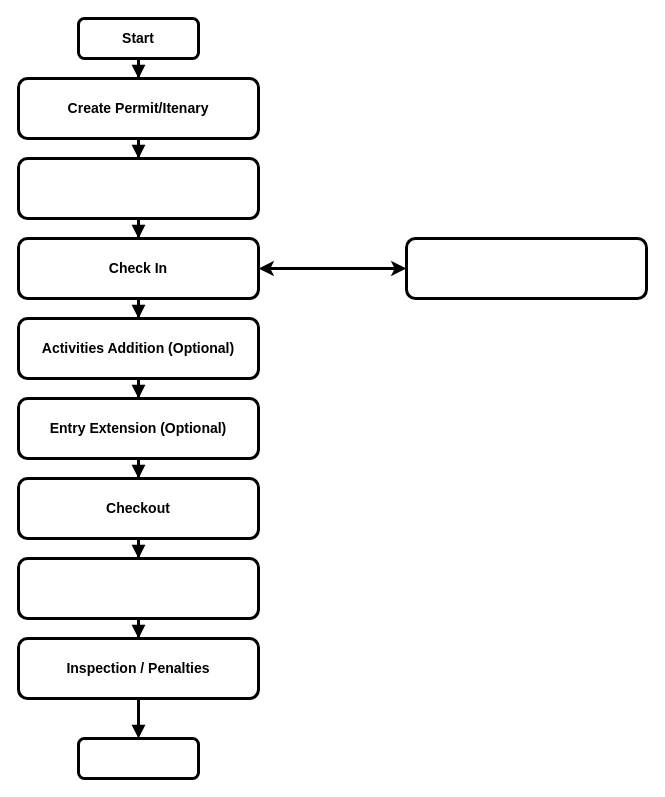
Image size: 665x797. Some labels were removed from this diagram. The box of each missing label's shape, as (x1, y1, x2, y2) in pixels:
Amend PAID Permit (optional): (16, 156, 260, 220)
Credit Note: (16, 556, 260, 620)
End: (76, 736, 200, 780)
Mini Checkout and CheckIn: (404, 236, 648, 300)
